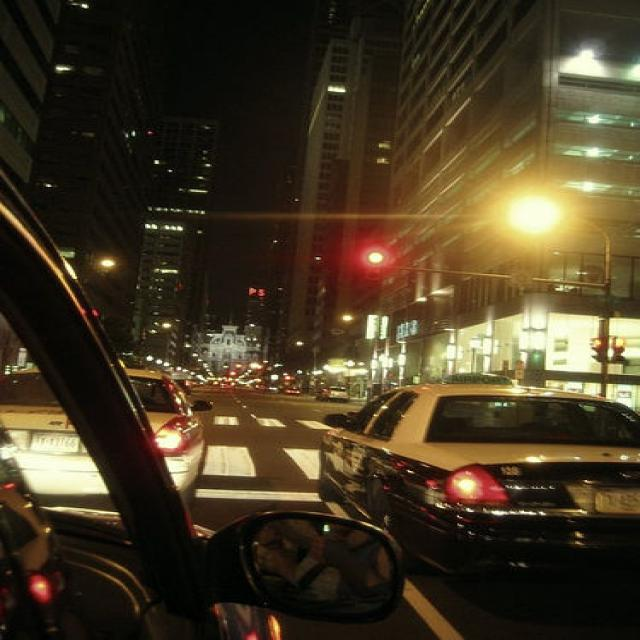Car: (307, 354, 640, 595), (5, 321, 224, 547)
